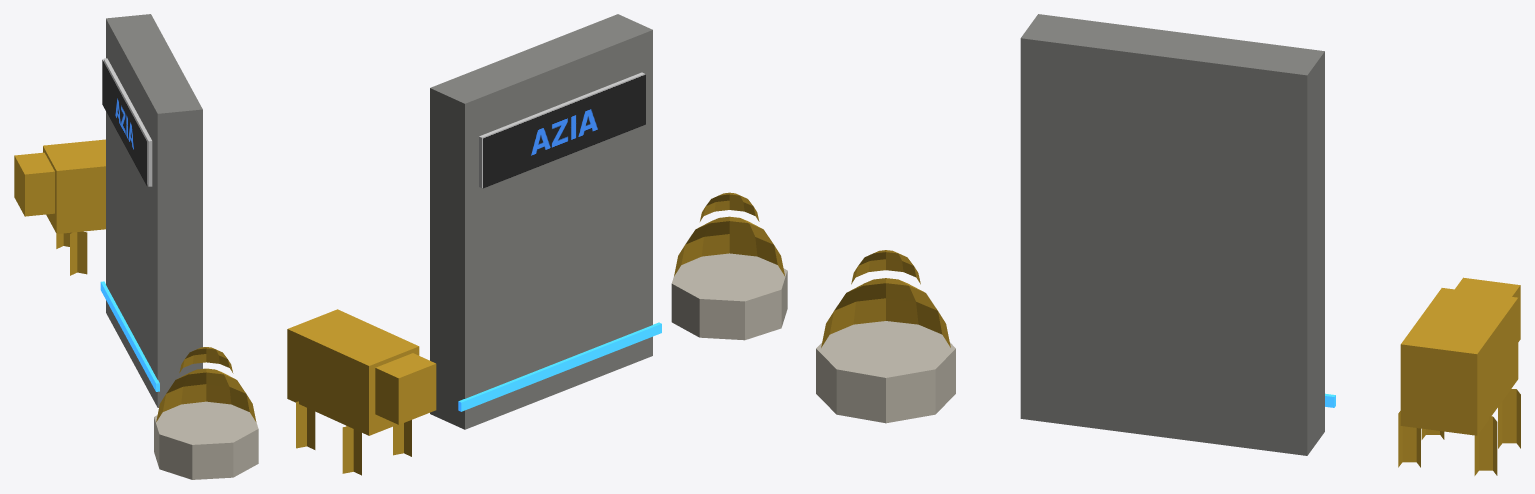
The model's file is azia_buddha.glb.
3 views of the same model, side by side, from view 1: azimuth 30°, elevation 25°; view 2: azimuth 150°, elevation 25°; view 3: azimuth 270°, elevation 25° (orthographic). The views are drawn at different scales.
Parts seen in each view (by area): view 1: azia_buddha_lod0; view 2: azia_buddha_lod0; view 3: azia_buddha_lod0.
Boxes of the visible parts, bbox=[...] form: azia_buddha_lod0: bbox=[14, 14, 258, 479]; azia_buddha_lod0: bbox=[287, 14, 787, 475]; azia_buddha_lod0: bbox=[816, 14, 1520, 475].
Size of what is drawn, in the model's own units: 3.25 by 4.26 by 7.05.
Materials: 8 (1 with a texture image).
